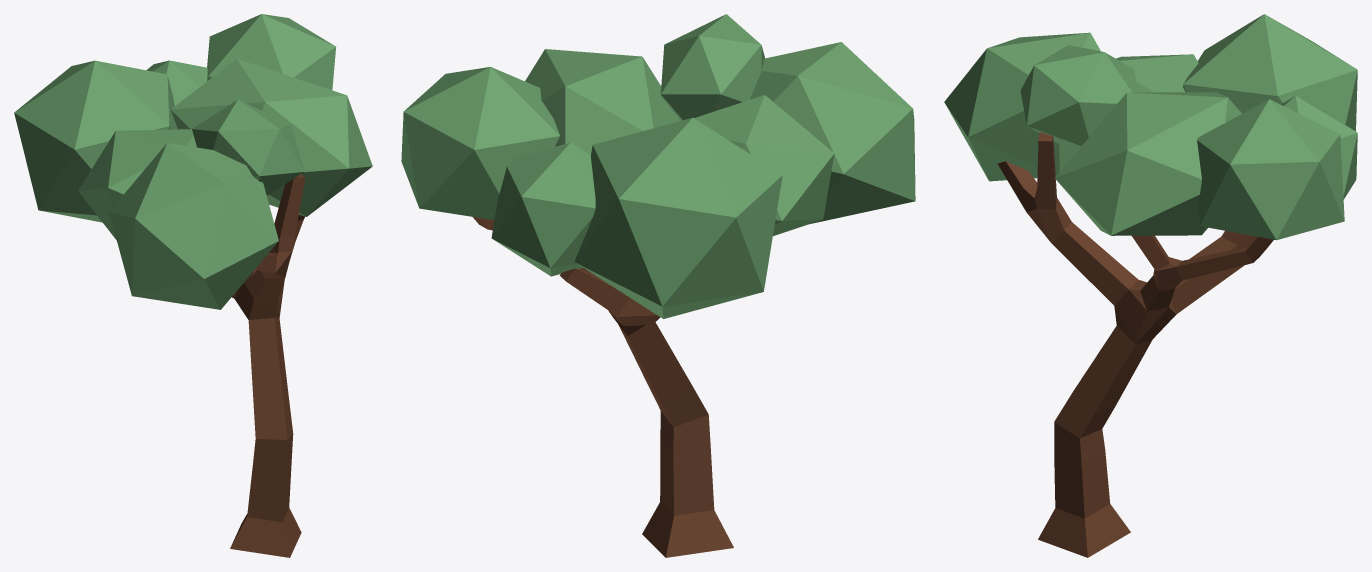
The model's file is Tree_02.fbx.
3 renders of one model, left to right at view 1: azimuth 30°, elevation 25°; view 2: azimuth 150°, elevation 25°; view 3: azimuth 270°, elevation 25°, orthographic. The views are drawn at different scales.
Parts seen in each view (by area): view 1: Leafs_02, Tree_02; view 2: Leafs_02, Tree_02; view 3: Leafs_02, Tree_02.
Boxes of the visible parts, x1,y1,x2,y2 form: Leafs_02: (14,14,372,309); Tree_02: (230,174,305,557); Leafs_02: (401,14,915,318); Tree_02: (473,217,733,557); Leafs_02: (944,14,1357,240); Tree_02: (997,132,1273,557).
Bounding box in the file's own units: 567 × 763 × 593.
